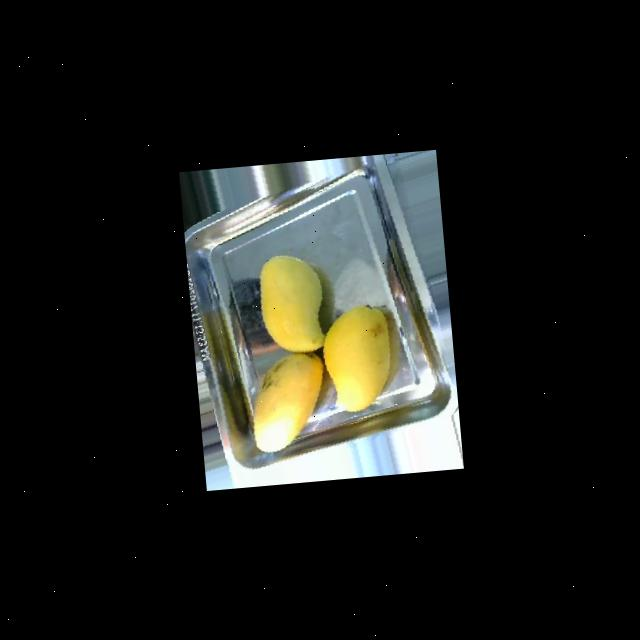Mango: (317, 302, 395, 414), (245, 350, 329, 453), (254, 251, 326, 355)
